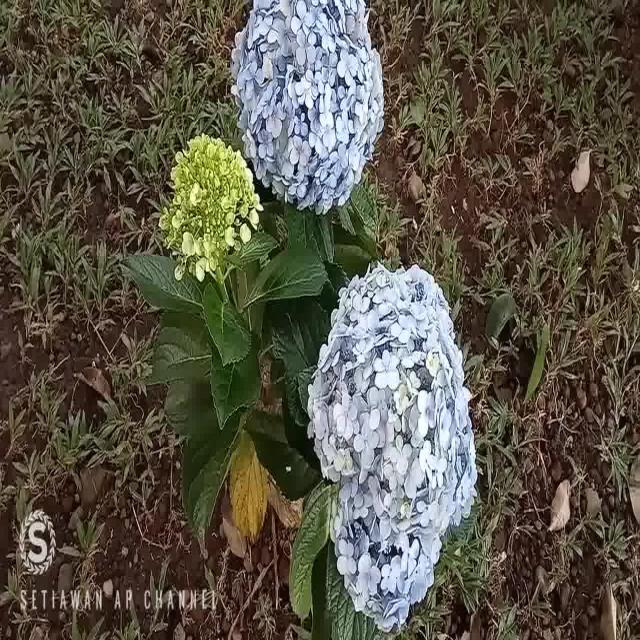Flower: (302, 261, 481, 634), (229, 1, 387, 212), (156, 134, 255, 278)
